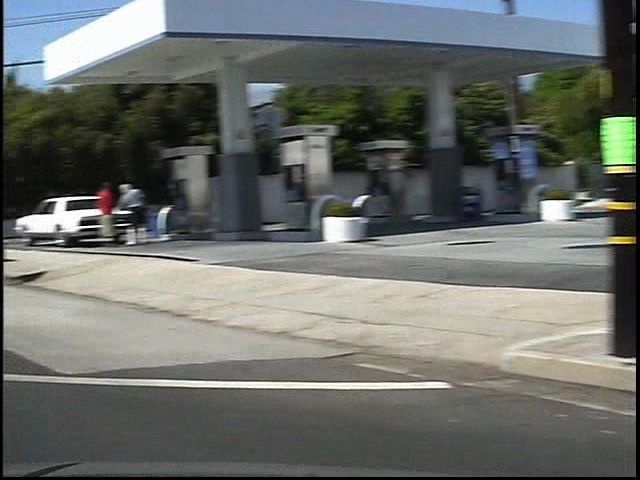person: (91, 175, 131, 243), (73, 177, 97, 247)
